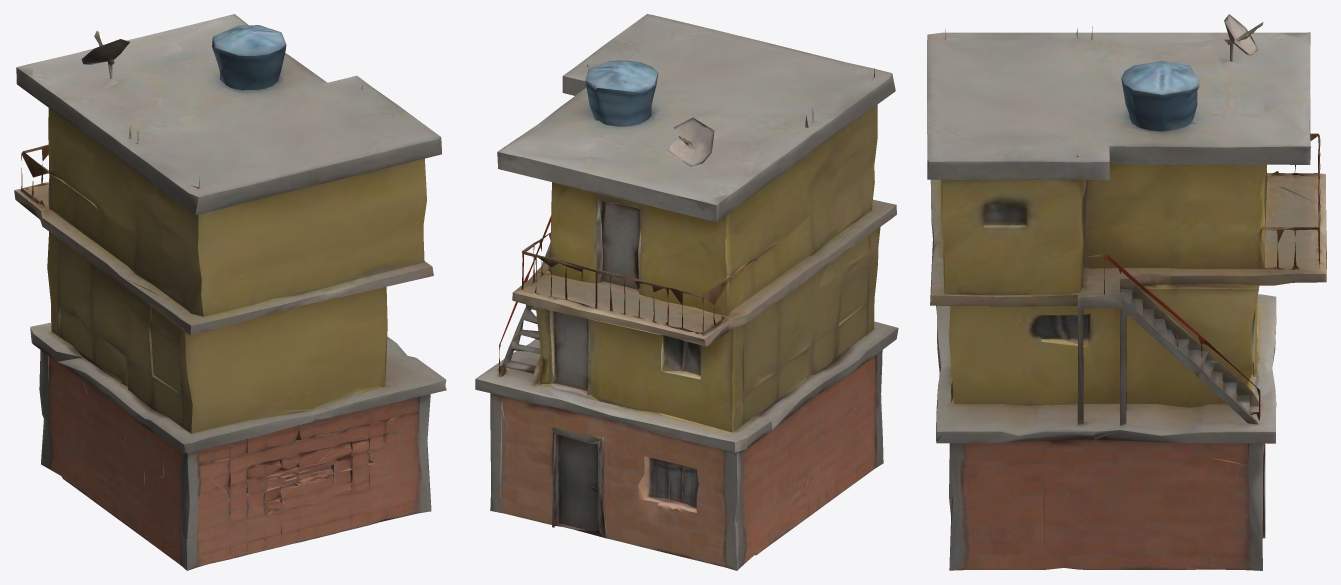
Rendered from favela_casa4.glb.
3 renders of one model, left to right at view 1: azimuth 30°, elevation 25°; view 2: azimuth 150°, elevation 25°; view 3: azimuth 270°, elevation 25°, orthographic. The views are drawn at different scales.
Visible parts, largest first — view 1: tripo_node_18255173-41f3-4d41-bff8-dfab5a488aa8; view 2: tripo_node_18255173-41f3-4d41-bff8-dfab5a488aa8; view 3: tripo_node_18255173-41f3-4d41-bff8-dfab5a488aa8.
Boxes of the visible parts, x1,y1,x2,y2 form: tripo_node_18255173-41f3-4d41-bff8-dfab5a488aa8: [14, 14, 446, 570]; tripo_node_18255173-41f3-4d41-bff8-dfab5a488aa8: [475, 14, 898, 570]; tripo_node_18255173-41f3-4d41-bff8-dfab5a488aa8: [927, 14, 1326, 570].
Size of the model in its own units: 0.6433 by 0.9974 by 0.7863.
Materials: 1 (1 with a texture image).
